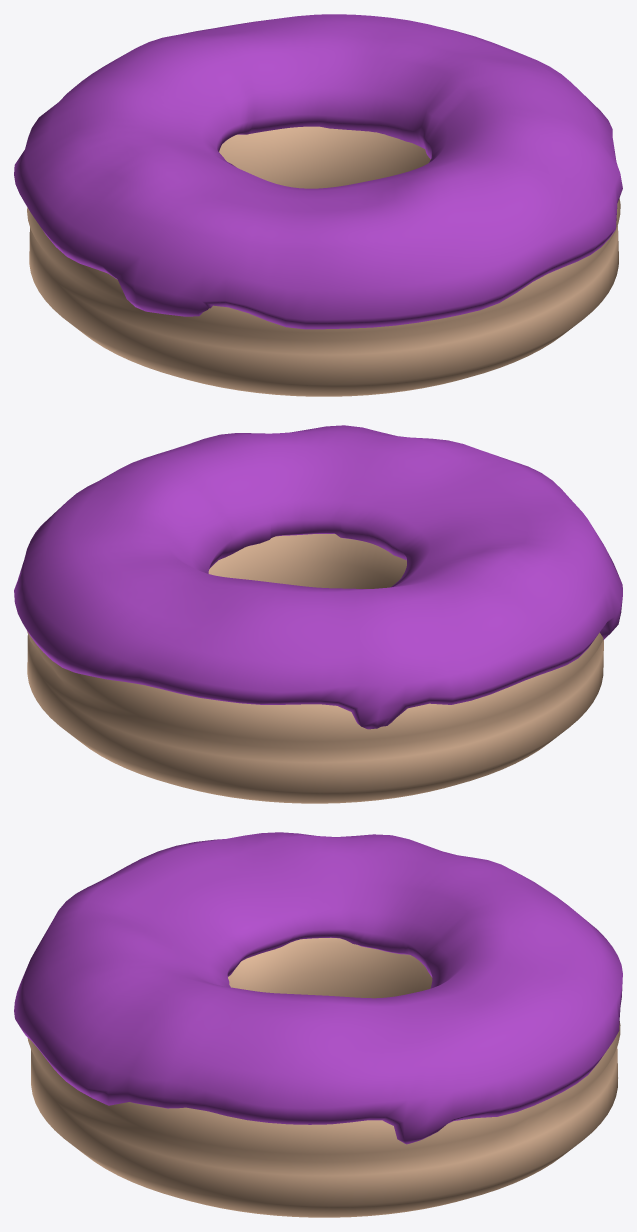
The model's file is Donut 1.fbx.
The picture shows the model from 3 angles, top to bottom: view 1: azimuth 30°, elevation 25°; view 2: azimuth 150°, elevation 25°; view 3: azimuth 270°, elevation 25°; orthographic projection. The views are drawn at different scales.
Visible parts, largest first — view 1: Donut-Up, Donut; view 2: Donut-Up, Donut; view 3: Donut-Up, Donut.
Part boxes in pixels (bbox=[...]): Donut-Up: bbox=[14, 14, 622, 329]; Donut: bbox=[27, 126, 620, 396]; Donut-Up: bbox=[14, 425, 622, 729]; Donut: bbox=[27, 534, 603, 803]; Donut-Up: bbox=[14, 832, 622, 1144]; Donut: bbox=[27, 937, 620, 1217].
Bounding box in the file's own units: 459 × 162 × 459.
